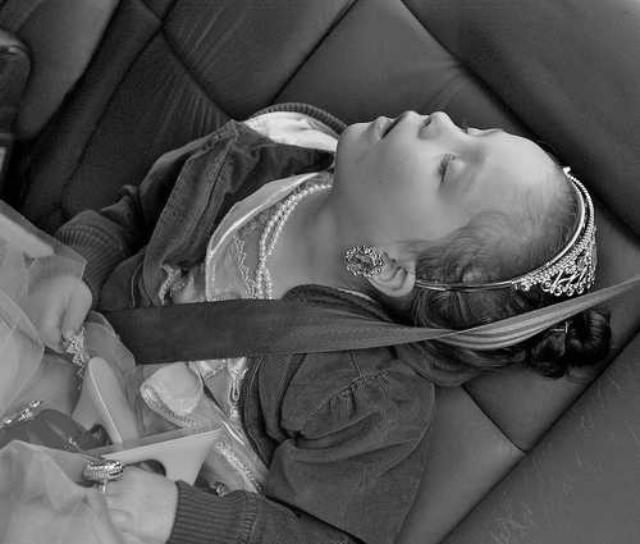Seatbelt: (104, 264, 640, 376)
